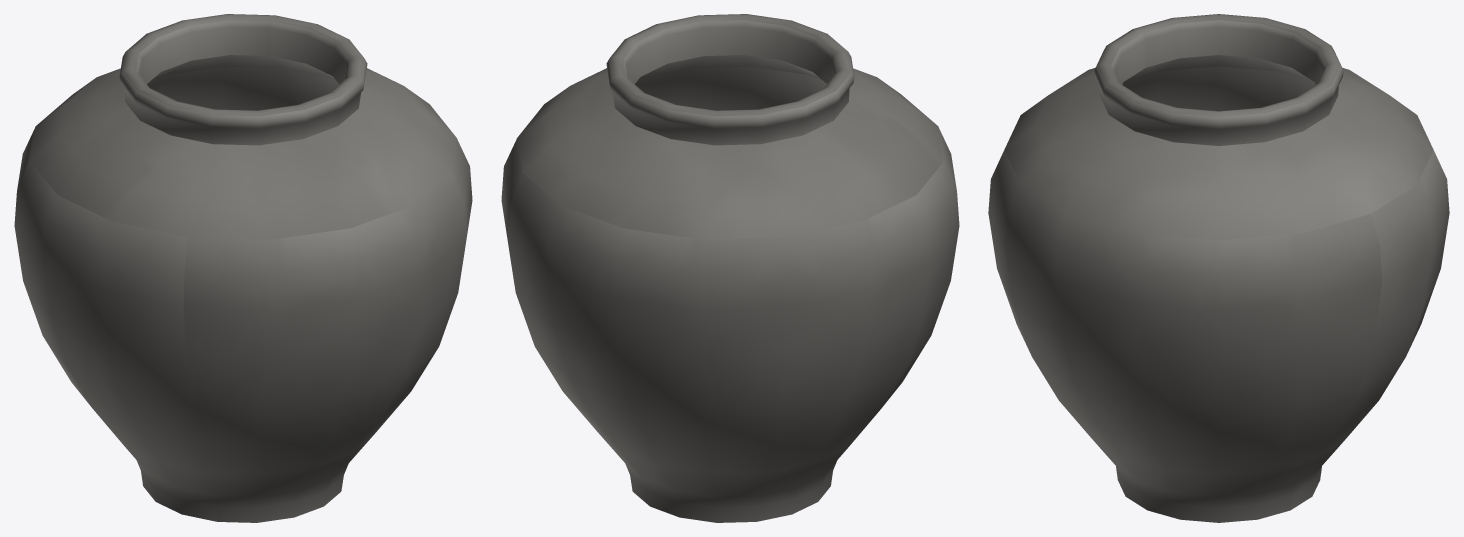
File: urn.glb
3 renders of one model, left to right at view 1: azimuth 30°, elevation 25°; view 2: azimuth 150°, elevation 25°; view 3: azimuth 270°, elevation 25°, orthographic.
Visible parts, largest first — view 1: urn; view 2: urn; view 3: urn.
Part boxes in pixels (x1,y1,x2,y2): urn: (14, 14, 472, 522); urn: (501, 14, 959, 522); urn: (988, 14, 1449, 522).
Size of the model in its own units: 0.4009 by 0.4 by 0.4009.
Materials: 1 (1 with a texture image).
